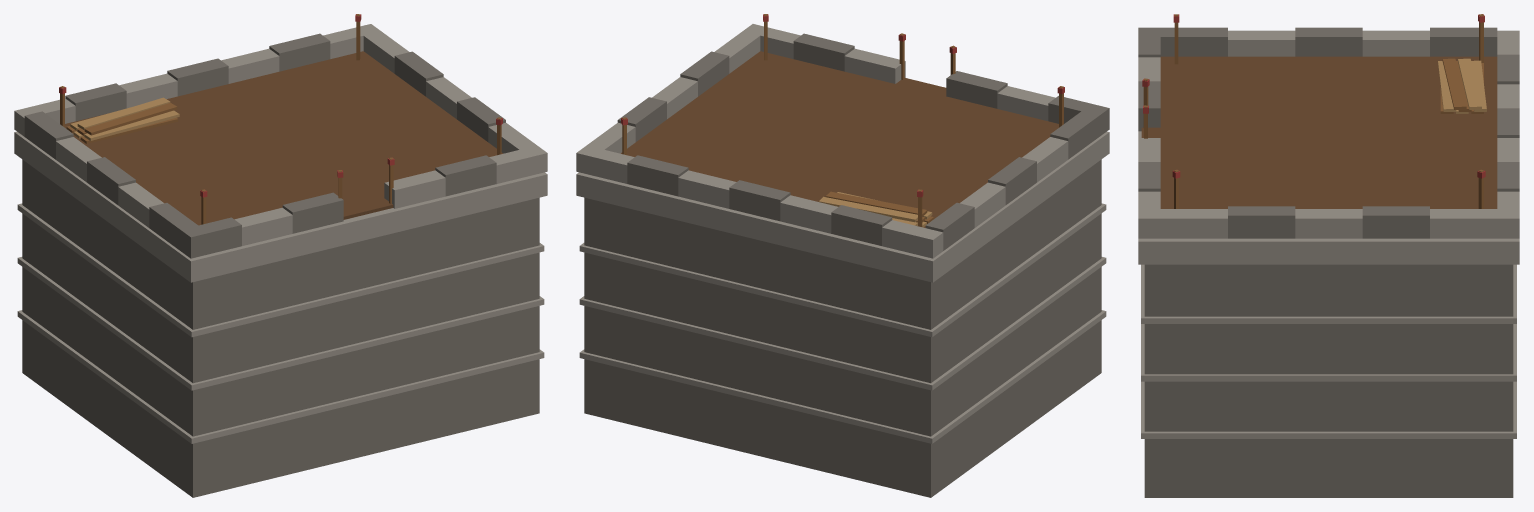
File: site_7x6_1.glb
3 views of the same model, side by side, from view 1: azimuth 30°, elevation 25°; view 2: azimuth 150°, elevation 25°; view 3: azimuth 270°, elevation 25° (orthographic). The views are drawn at different scales.
Parts seen in each view (by area): view 1: site_7x6_1; view 2: site_7x6_1; view 3: site_7x6_1.
Part boxes in pixels (x1=…): site_7x6_1: x1=14, y1=14, x2=547, y2=497; site_7x6_1: x1=576, y1=14, x2=1109, y2=497; site_7x6_1: x1=1138, y1=14, x2=1519, y2=497.
Bounding box in the file's own units: 7 × 5.45 × 6.
